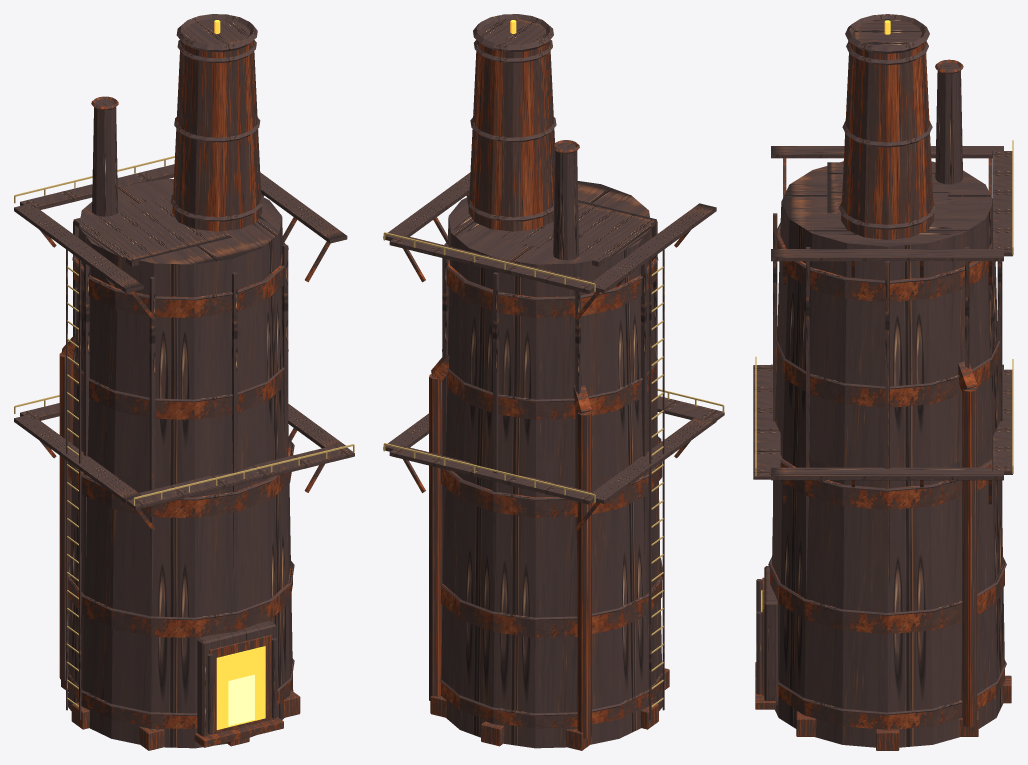
Rendered from furnaceTower.glb.
The picture shows the model from 3 angles, left to right: view 1: azimuth 30°, elevation 25°; view 2: azimuth 150°, elevation 25°; view 3: azimuth 270°, elevation 25°; orthographic projection. The views are drawn at different scales.
Parts seen in each view (by area): view 1: DrumUpper, DrumLower, Stack, RoofLanding, RustCourse.1, RustCourse.4, RustCourse.2, RustCourse.3, Catwalk, FeedPipe.-13, AuxiliaryStack, FurnaceDoorGlow (+22 smaller); view 2: DrumLower, DrumUpper, Stack, FeedPipe.-13, FeedPipe.13, RustCourse.1, RoofLanding, RustCourse.4, RustCourse.2, RustCourse.3, AuxiliaryStack, RustCourse.0 (+19 smaller); view 3: DrumLower, DrumUpper, Stack, FeedPipe.13, RustCourse.1, RustCourse.4, RustCourse.3, RustCourse.2, SideWalk.44.8.17.8, RustCourse.0, AuxiliaryStack, SideWalk.80.17.8 (+24 smaller).
Boxes of the visible parts, left/top/right/bottom form: DrumUpper: left=72, top=178, right=288, bottom=482; DrumLower: left=68, top=432, right=293, bottom=748; Stack: left=172, top=40, right=261, bottom=231; RoofLanding: left=73, top=195, right=231, bottom=266; RustCourse.1: left=68, top=564, right=292, bottom=637; RustCourse.4: left=74, top=254, right=283, bottom=317; RustCourse.2: left=68, top=442, right=291, bottom=518; RustCourse.3: left=74, top=364, right=283, bottom=419; Catwalk: left=127, top=443, right=354, bottom=509; FeedPipe.-13: left=59, top=352, right=73, bottom=680; AuxiliaryStack: left=92, top=99, right=118, bottom=216; FurnaceDoorGlow: left=216, top=646, right=265, bottom=729; DrumLower: left=441, top=443, right=662, bottom=748; DrumUpper: left=446, top=181, right=657, bottom=482; Stack: left=468, top=40, right=554, bottom=231; FeedPipe.-13: left=577, top=411, right=591, bottom=738; FeedPipe.13: left=429, top=374, right=442, bottom=700; RustCourse.1: left=441, top=572, right=662, bottom=637; RoofLanding: left=498, top=200, right=656, bottom=266; RustCourse.4: left=447, top=258, right=656, bottom=317; RustCourse.2: left=441, top=439, right=662, bottom=518; RustCourse.3: left=447, top=364, right=656, bottom=419; AuxiliaryStack: left=553, top=142, right=579, bottom=260; RustCourse.0: left=441, top=676, right=662, bottom=728; DrumLower: left=772, top=439, right=1004, bottom=747; DrumUpper: left=775, top=161, right=999, bottom=467; Stack: left=841, top=42, right=933, bottom=239; FeedPipe.13: left=962, top=387, right=977, bottom=727; RustCourse.1: left=770, top=563, right=1004, bottom=634; RustCourse.4: left=776, top=229, right=995, bottom=301; RustCourse.3: left=776, top=346, right=998, bottom=407; RustCourse.2: left=780, top=455, right=993, bottom=509; SideWalk.44.8.17.8: left=771, top=467, right=1003, bottom=480; RustCourse.0: left=778, top=669, right=1004, bottom=729; AuxiliaryStack: left=935, top=62, right=962, bottom=184; SideWalk.80.17.8: left=771, top=249, right=1003, bottom=261.
Size of what is drawn, in the model's own units: 38.6 by 112 by 38.01.
6 materials, 3 textured.
